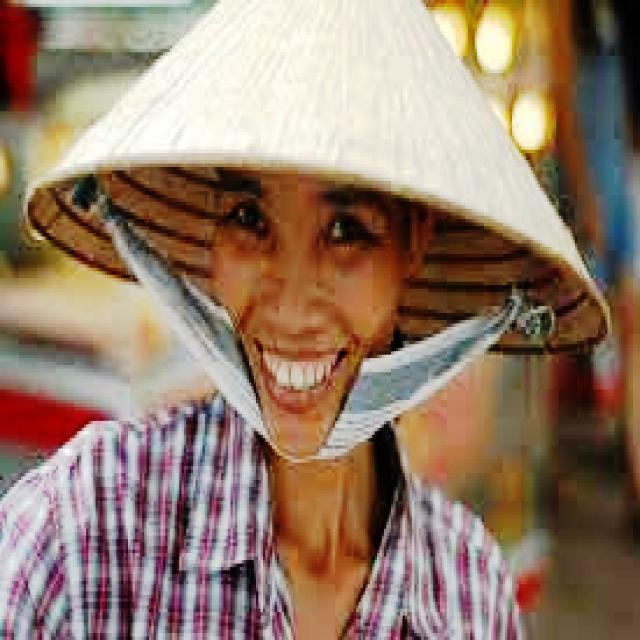TOPI: (19, 0, 612, 362)
